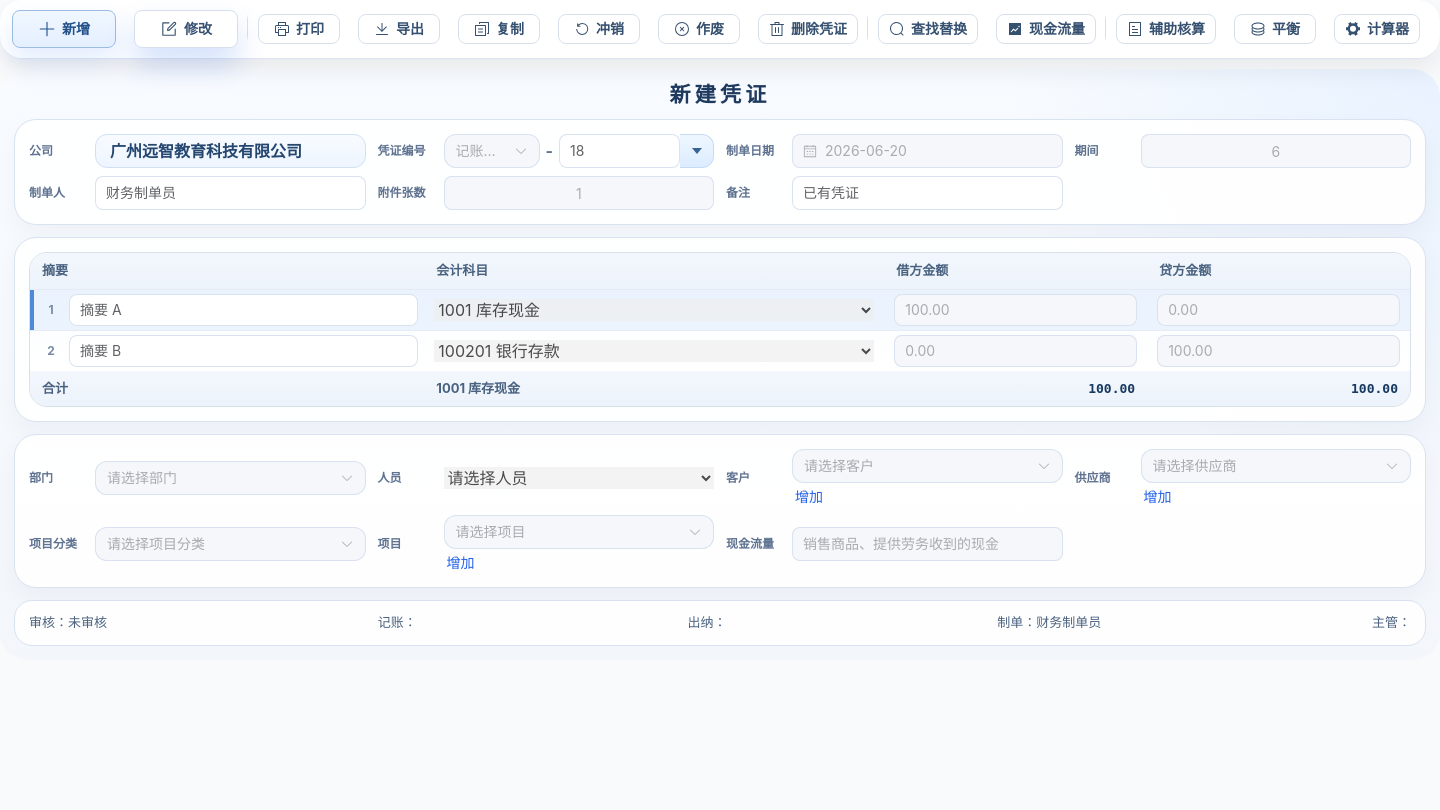
Test: FinanceNewVoucherView › allows selecting saved vouchers from a readonly create page dropdown
Click the button with test id "voucher-no-trigger": (697, 151) [680,134,714,168]
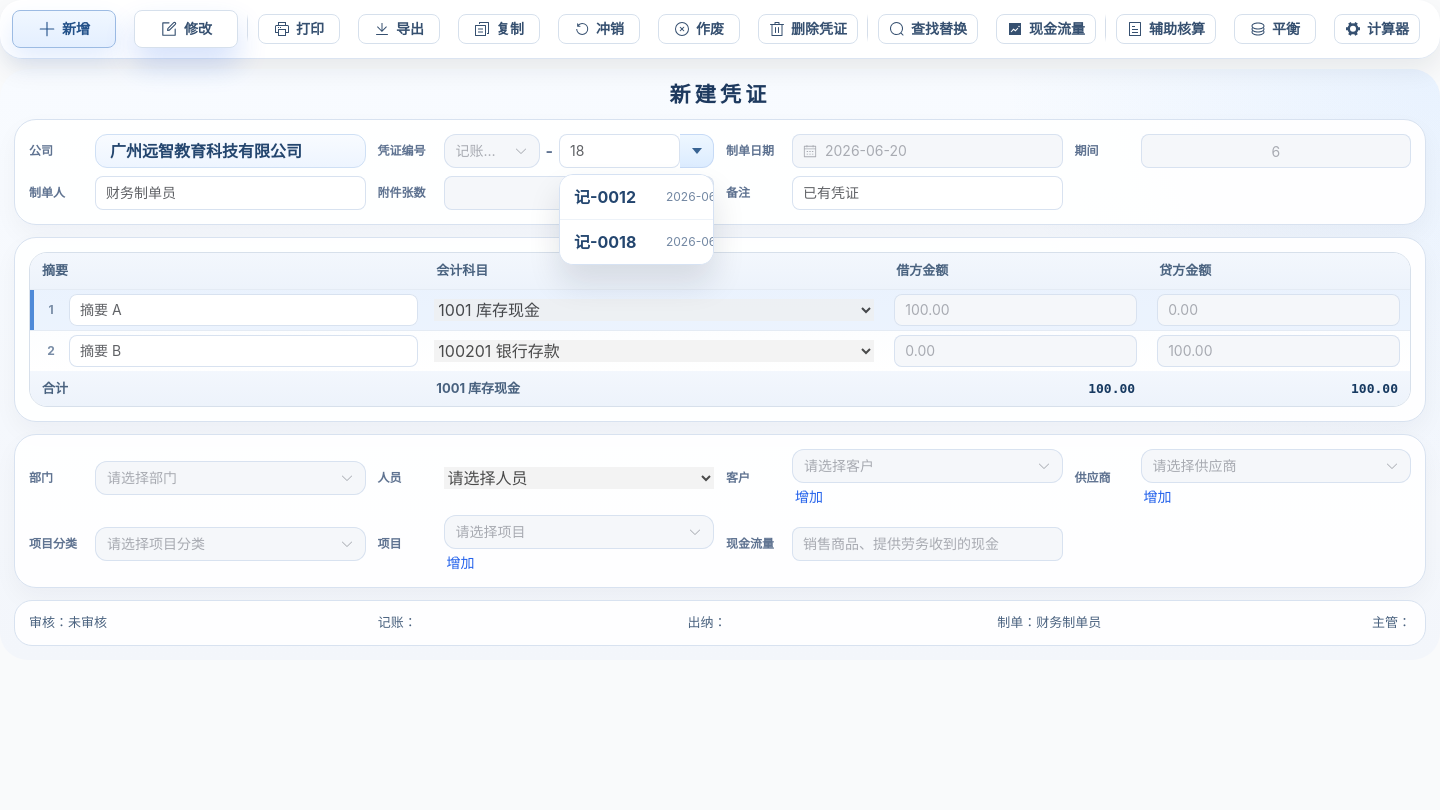
Check: the element with test id "voucher-no-dropdown" is shown, box [559,174,714,265]
